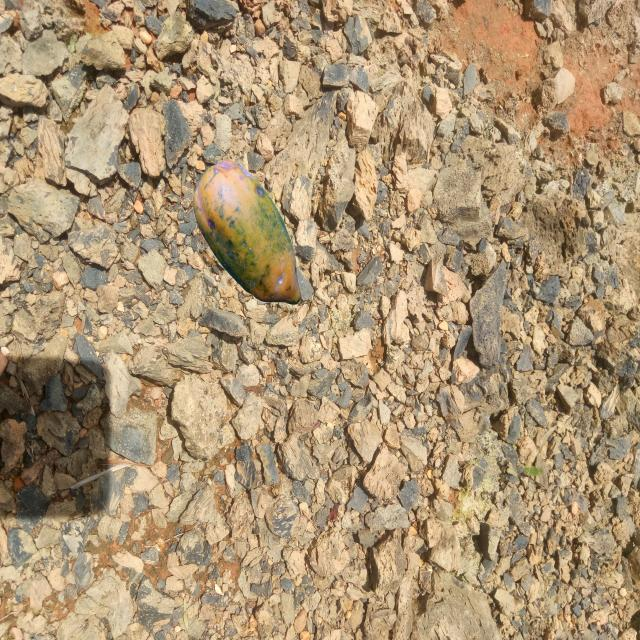Pepaya rippen: (185, 156, 301, 320)
